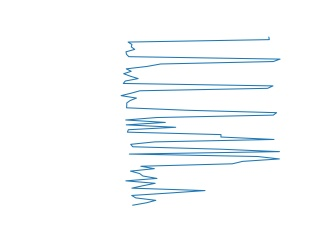crevasseRiverChannelBar: (123, 160, 271, 206)
majorRiverBedLagDeposit: (120, 121, 284, 162)
majorRiverChannelBar: (118, 34, 281, 116)
